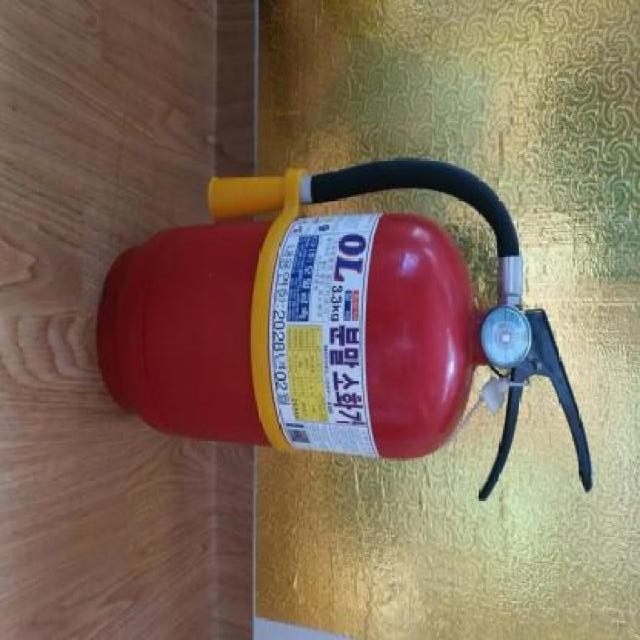fire extinguisher: (95, 159, 593, 501)
